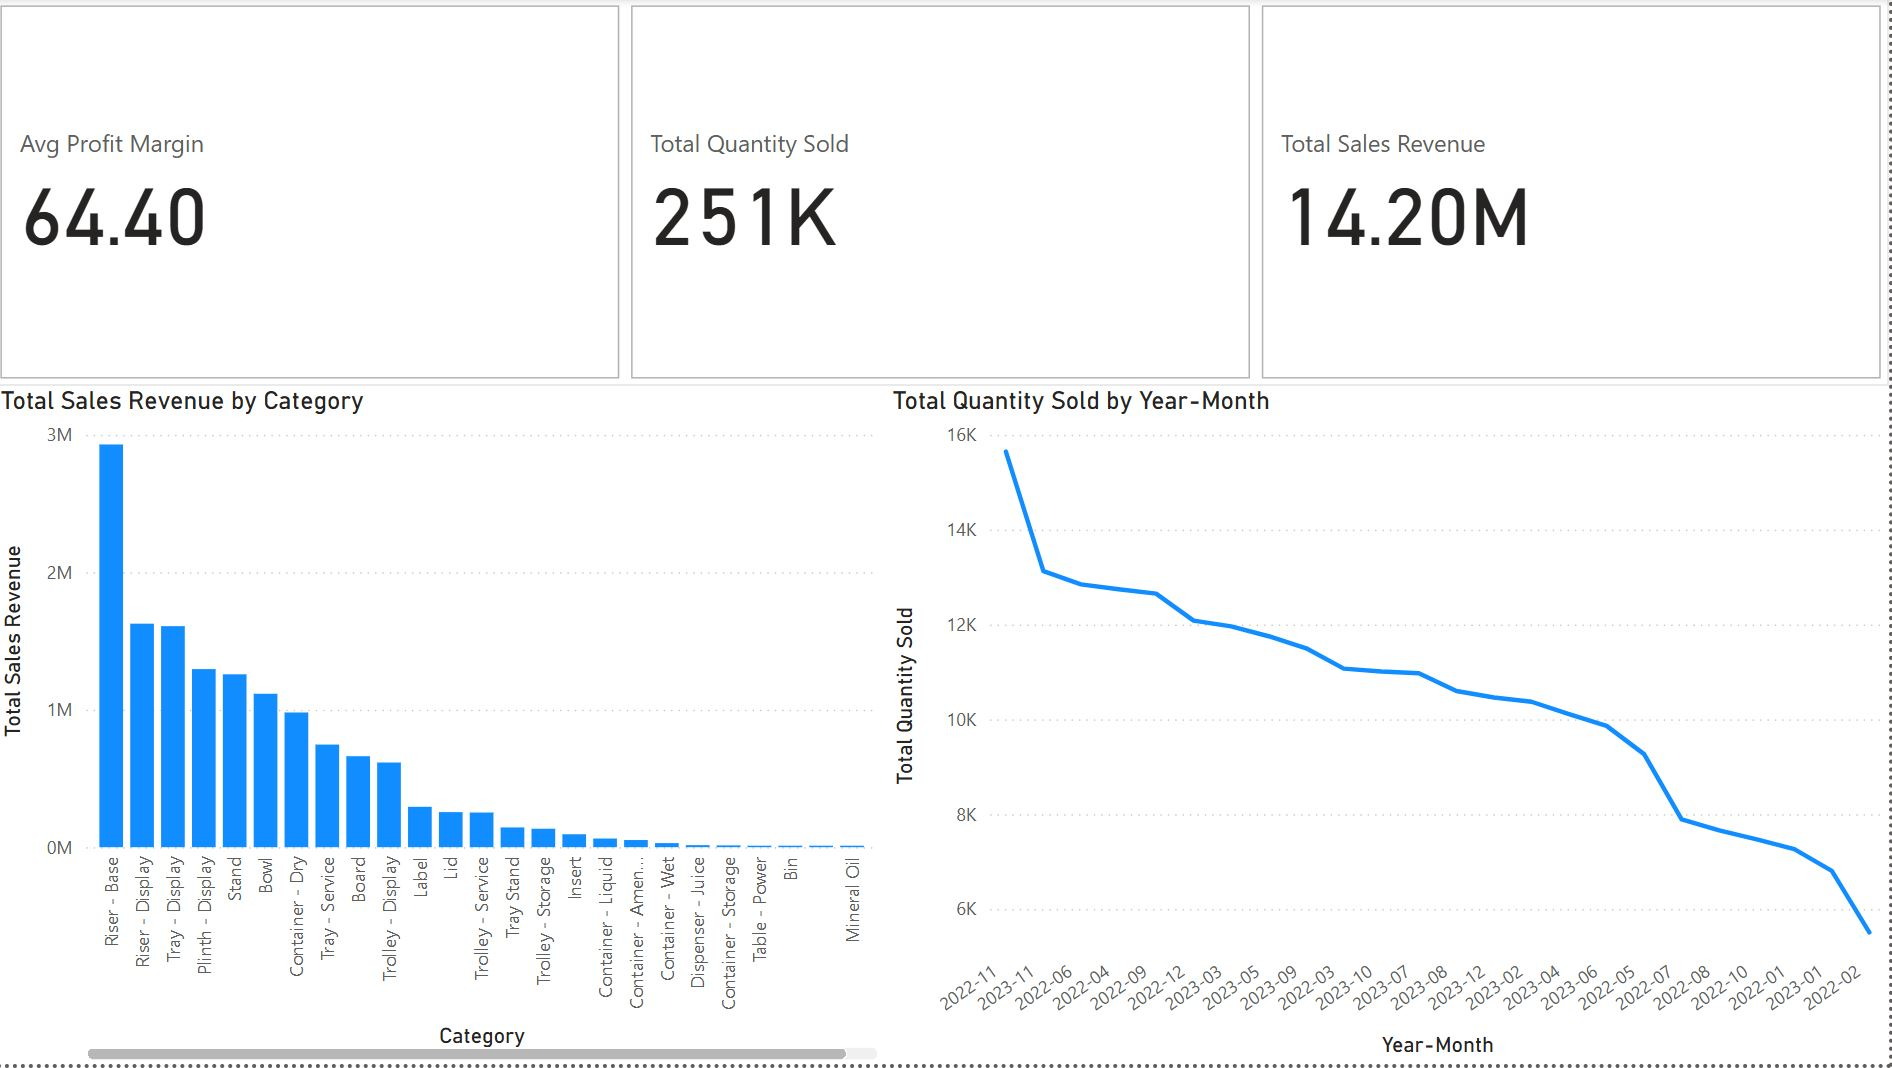

What the dashboard file says about the page in this screenshot:
{"tool":"powerbi","page":{"name":"Detailed Sales Trends Analysis","canvas":[1280,720],"ordinal":2},"visuals":[{"type":"clusteredColumnChart","fields":{"Category":["Craster Technical Exercise - Product Data.Category"],"Y":["Sales Data Combined.Total Sales Revenue"]},"box":[0,262.2,602.2,460],"z":0},{"type":"cardVisual","fields":{"Data":["Sales Data Combined.Avg Profit Margin","Sales Data Combined.Total Quantity Sold","Sales Data Combined.Total Sales Revenue"]},"box":[0,0,1280,262.4],"z":1000},{"type":"lineChart","fields":{"Y":["Sales Data Combined.Total Quantity Sold"],"Category":["Sales Data Combined.Year-Month"]},"box":[602.2,262.2,680,457.8],"z":2000}]}

Visuals, with their boxes in screenshot pixels (x1, y1, x2, y2), scaled from the page's 1280x720 canvas onto the 1892x1068 screenshot:
clusteredColumnChart - Craster Technical Exercise - Product Data.Category x Sales Data Combined.Total Sales Revenue: 0:389:890:1067
cardVisual - Sales Data Combined.Avg Profit Margin x Sales Data Combined.Total Quantity Sold: 0:0:1891:389
lineChart - Sales Data Combined.Total Quantity Sold x Sales Data Combined.Year-Month: 890:389:1891:1067
